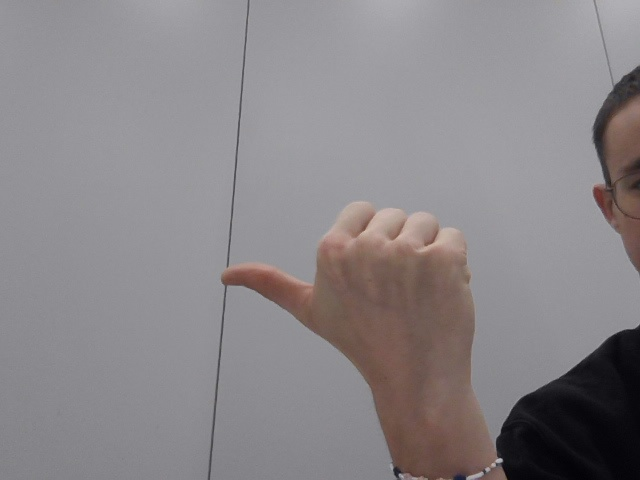right: (207, 190, 508, 425)
